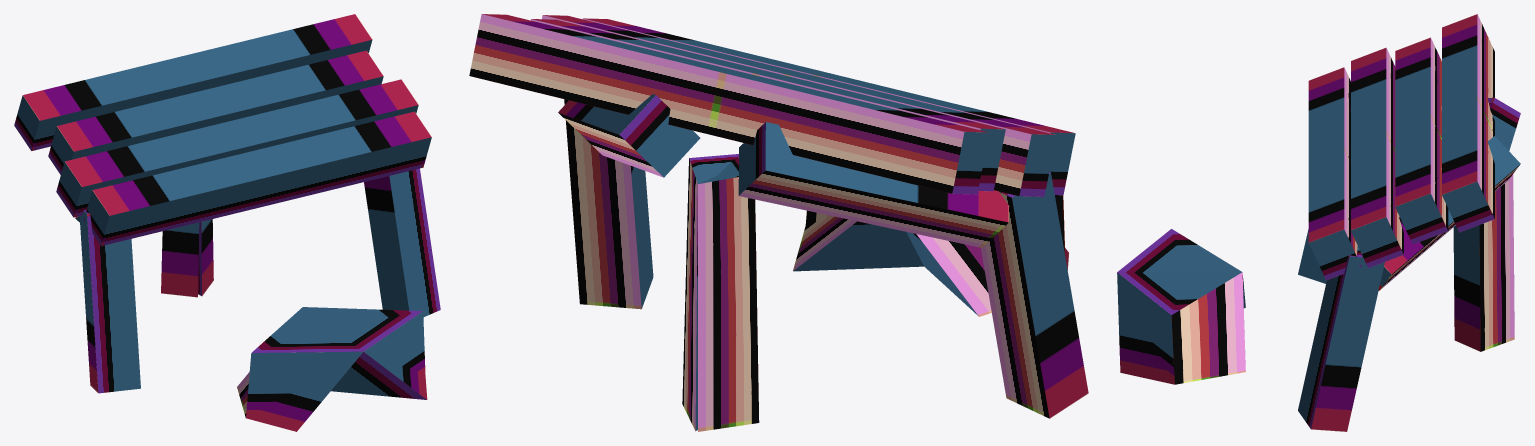
The model's file is MakeG3-G4.fbx.
3 renders of one model, left to right at view 1: azimuth 30°, elevation 25°; view 2: azimuth 150°, elevation 25°; view 3: azimuth 270°, elevation 25°, orthographic. The views are drawn at different scales.
Visible parts, largest first — view 1: Cube; view 2: Cube; view 3: Cube.
Part boxes in pixels (x1,y1,x2,y2): Cube: (14,14,440,431); Cube: (469,14,1088,431); Cube: (1117,14,1520,431).
Bounding box in the file's own units: 193 × 191 × 132.
